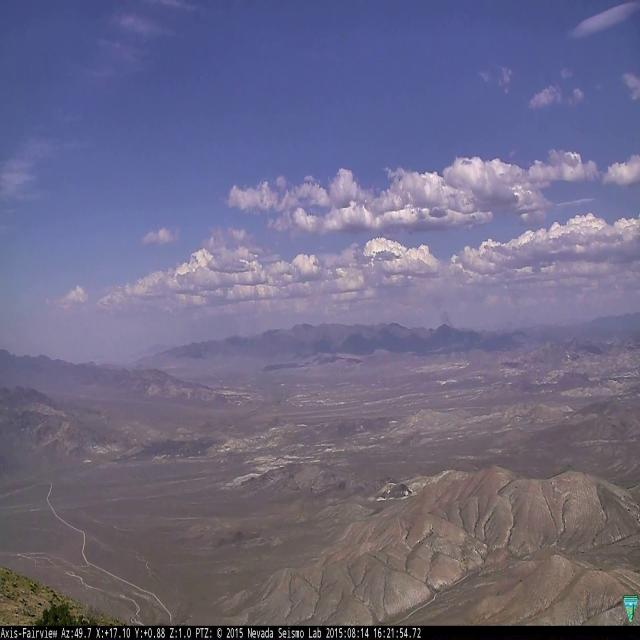smoke: (431, 299, 456, 364)
